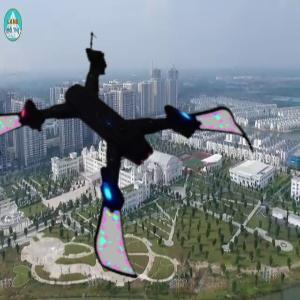drone: (17, 30, 243, 256)
